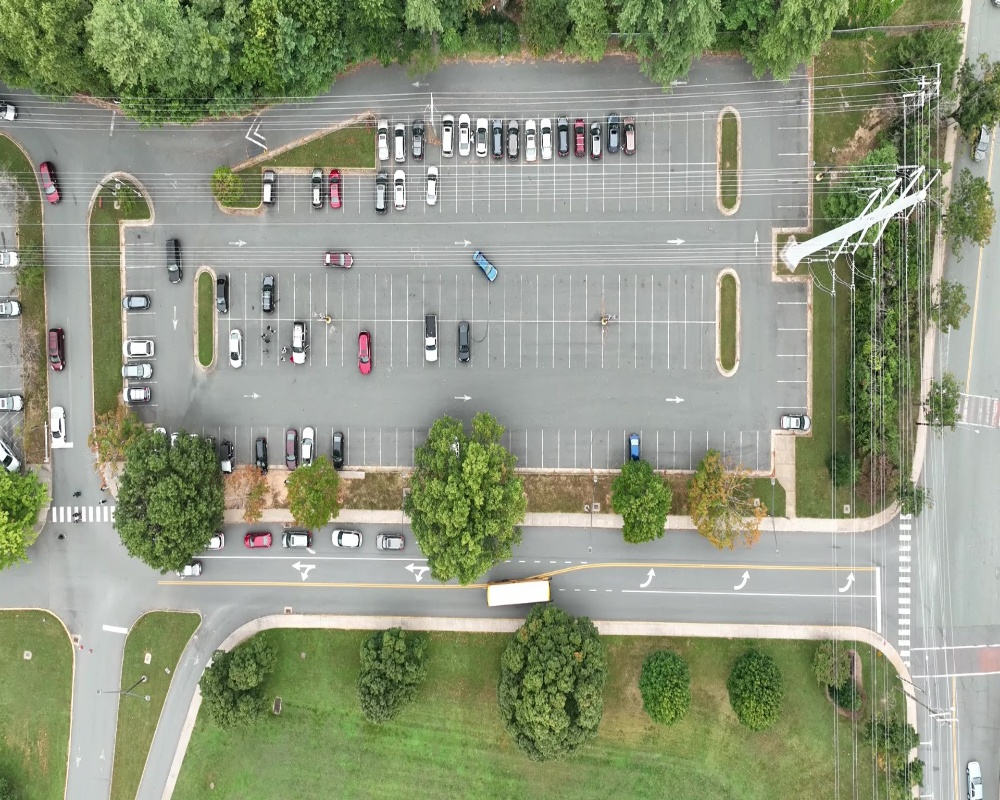car: (32, 158, 67, 207), (469, 247, 501, 284), (164, 238, 185, 286), (775, 410, 813, 436), (422, 313, 440, 363), (46, 327, 66, 372), (252, 435, 272, 479), (624, 429, 644, 470), (48, 406, 69, 445), (291, 321, 309, 366), (327, 167, 344, 212), (283, 426, 299, 473), (330, 528, 364, 550), (120, 338, 157, 358), (357, 330, 373, 376), (320, 249, 355, 270), (456, 319, 472, 363), (120, 361, 155, 381), (538, 118, 554, 161), (299, 423, 315, 466), (165, 560, 203, 578), (261, 168, 279, 206), (215, 273, 231, 315), (457, 113, 472, 157), (374, 171, 389, 215), (330, 428, 345, 472), (392, 170, 408, 211), (280, 531, 314, 550), (228, 328, 244, 368), (120, 385, 153, 404), (572, 117, 588, 156), (410, 119, 425, 160), (607, 113, 621, 156), (377, 118, 391, 161), (622, 115, 637, 155), (261, 273, 276, 313), (376, 532, 406, 552), (589, 120, 603, 162), (524, 119, 538, 161), (475, 118, 489, 159), (557, 115, 570, 159), (426, 164, 439, 207), (243, 531, 272, 550), (394, 122, 407, 164), (442, 114, 454, 159), (507, 120, 520, 161), (491, 120, 504, 161), (120, 295, 152, 310), (311, 168, 323, 208)
person: (258, 334, 274, 358), (268, 324, 277, 337), (97, 484, 109, 493), (55, 533, 70, 540), (71, 510, 83, 518), (97, 499, 108, 507), (73, 490, 82, 499), (71, 519, 81, 525)
